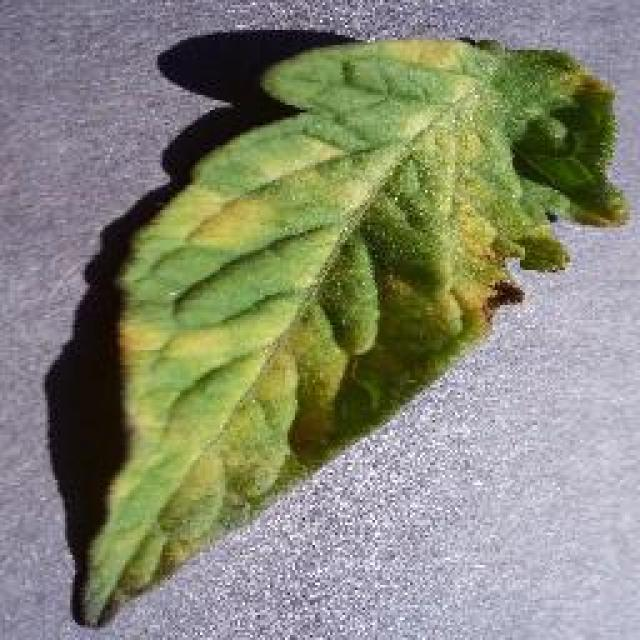Tomato___Leaf_Mold: (80, 40, 625, 622)
